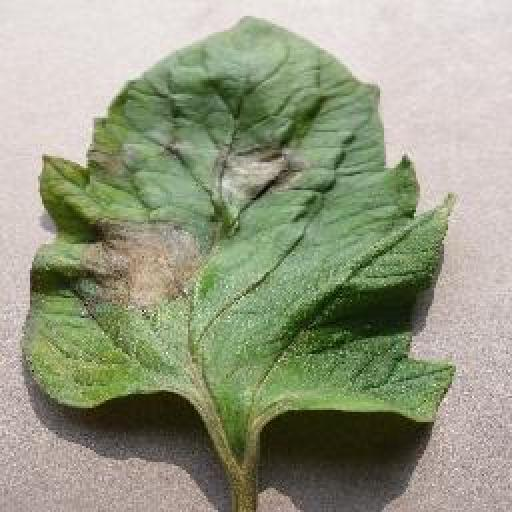Late Blight: (17, 12, 456, 427)
